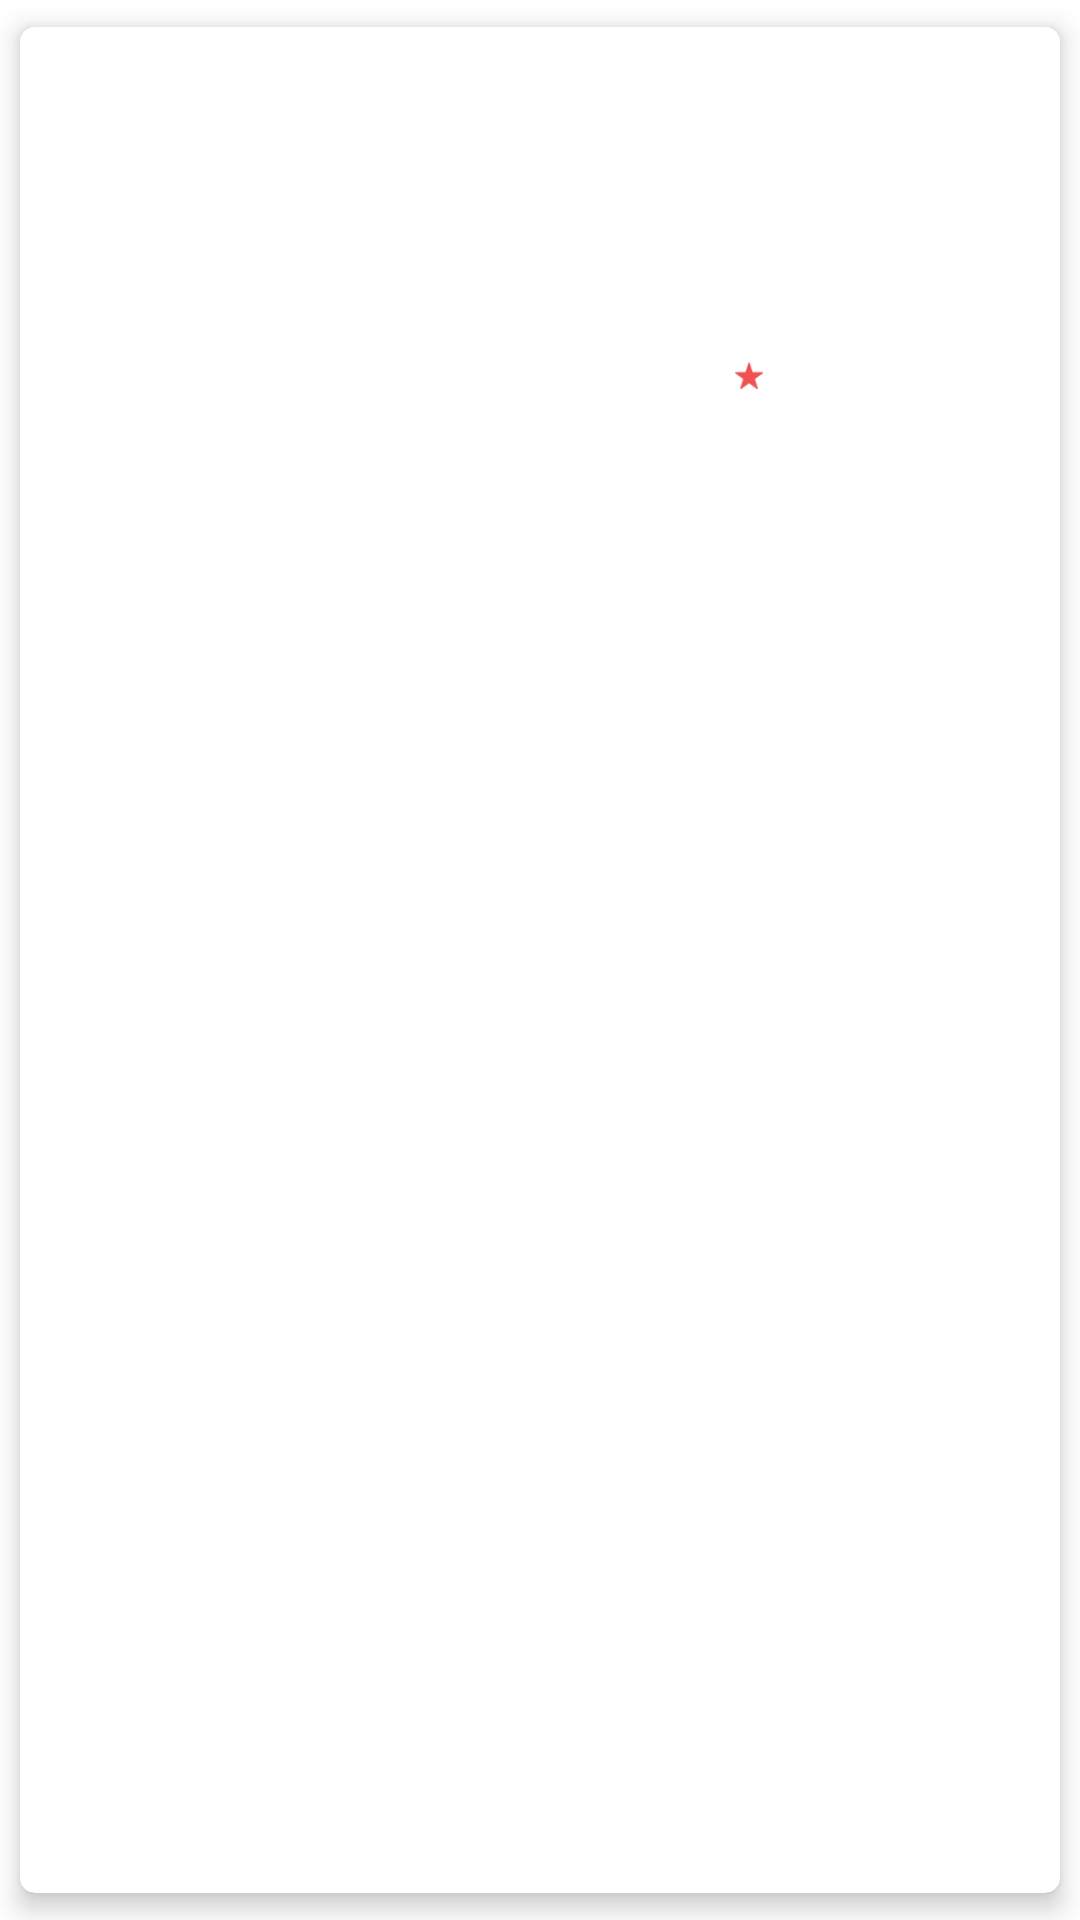

Icon click points for this 1080*1920 phone screenshot, format (x,y):
star: (749,375)
